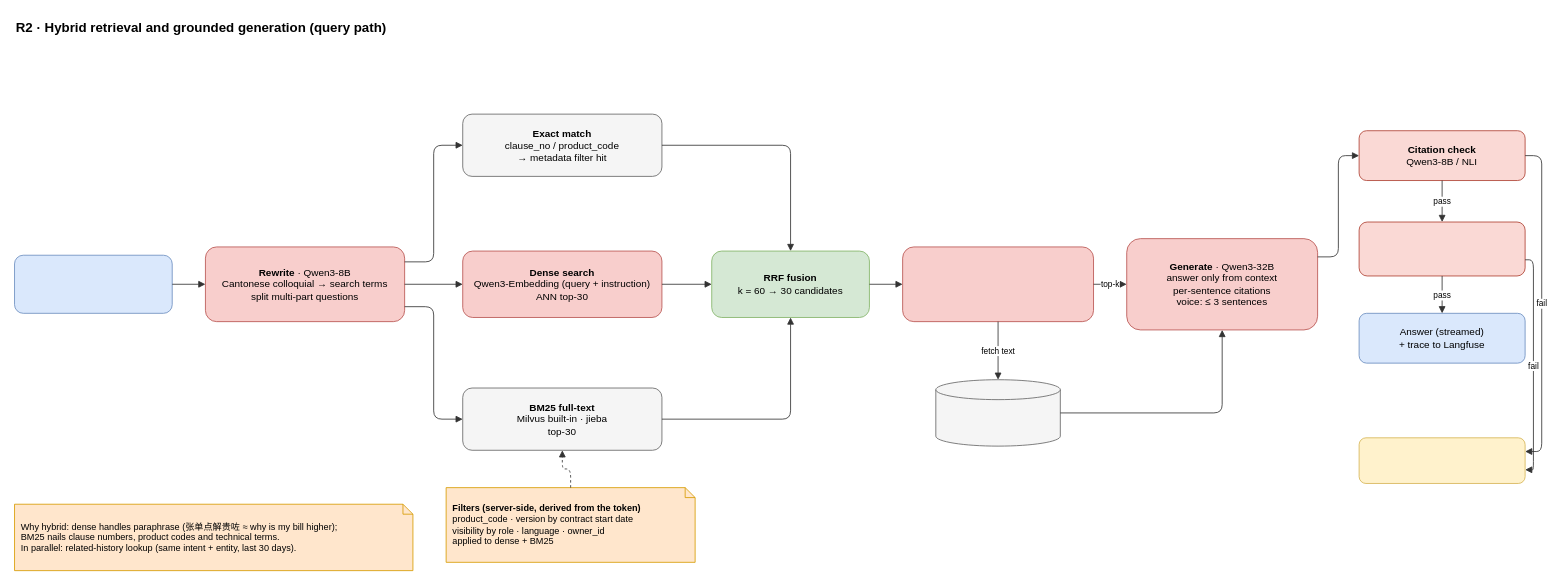
This 1563x585 diagram has some shape labels left out. The shapes that lost their labels are listed below. From the top down, each one's centre as x and y in pixels, then its label:
(x=1441, y=248): Compliance check no binding commitment · disclaimer
(x=93, y=283): Customer question (chat text / STT transcript)
(x=998, y=284): Qwen3-Reranker chat top-5 · voice top-3 low score → retry / handoff
(x=997, y=412): Object storage clause text
(x=1441, y=460): Handoff to human
